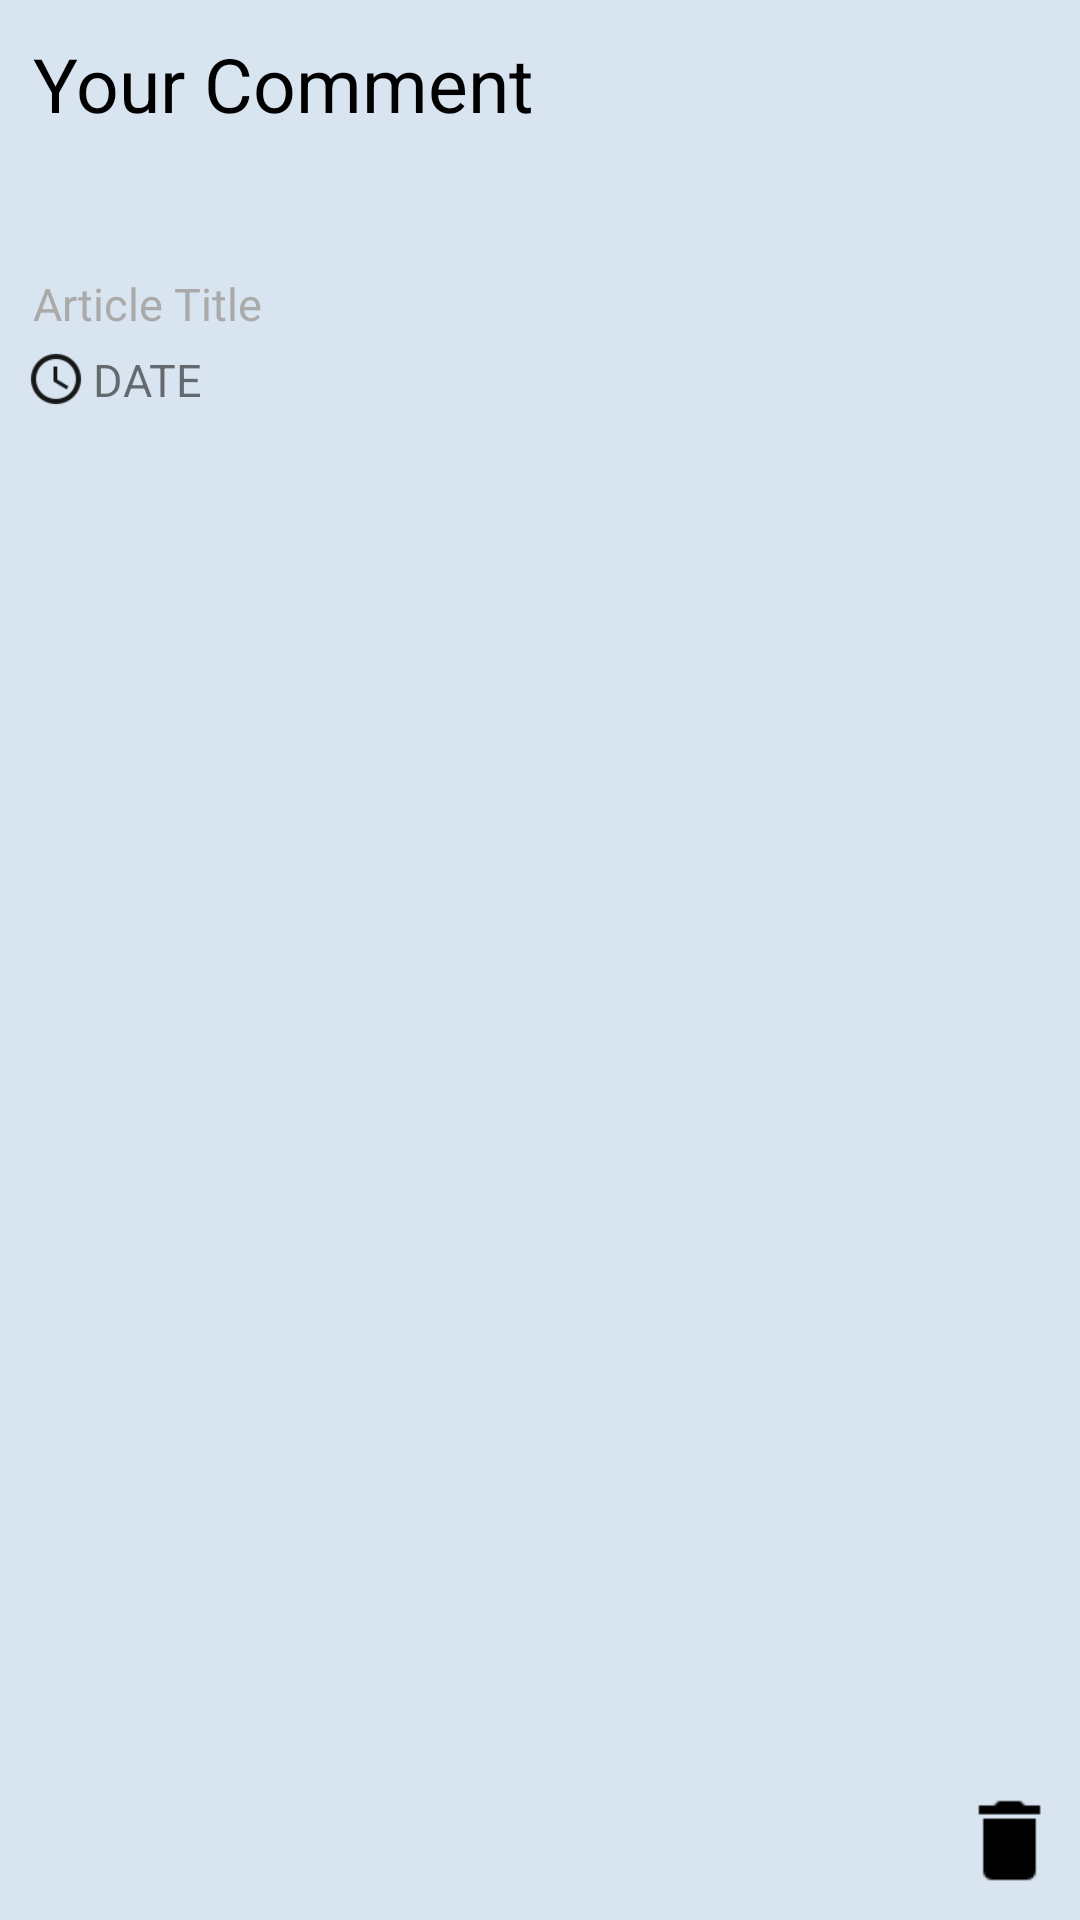

Point at icon controls on the screen. Image size 1080w x 1920h, points as [x,y].
clock: [56,379]
delete: [1009,1840]
